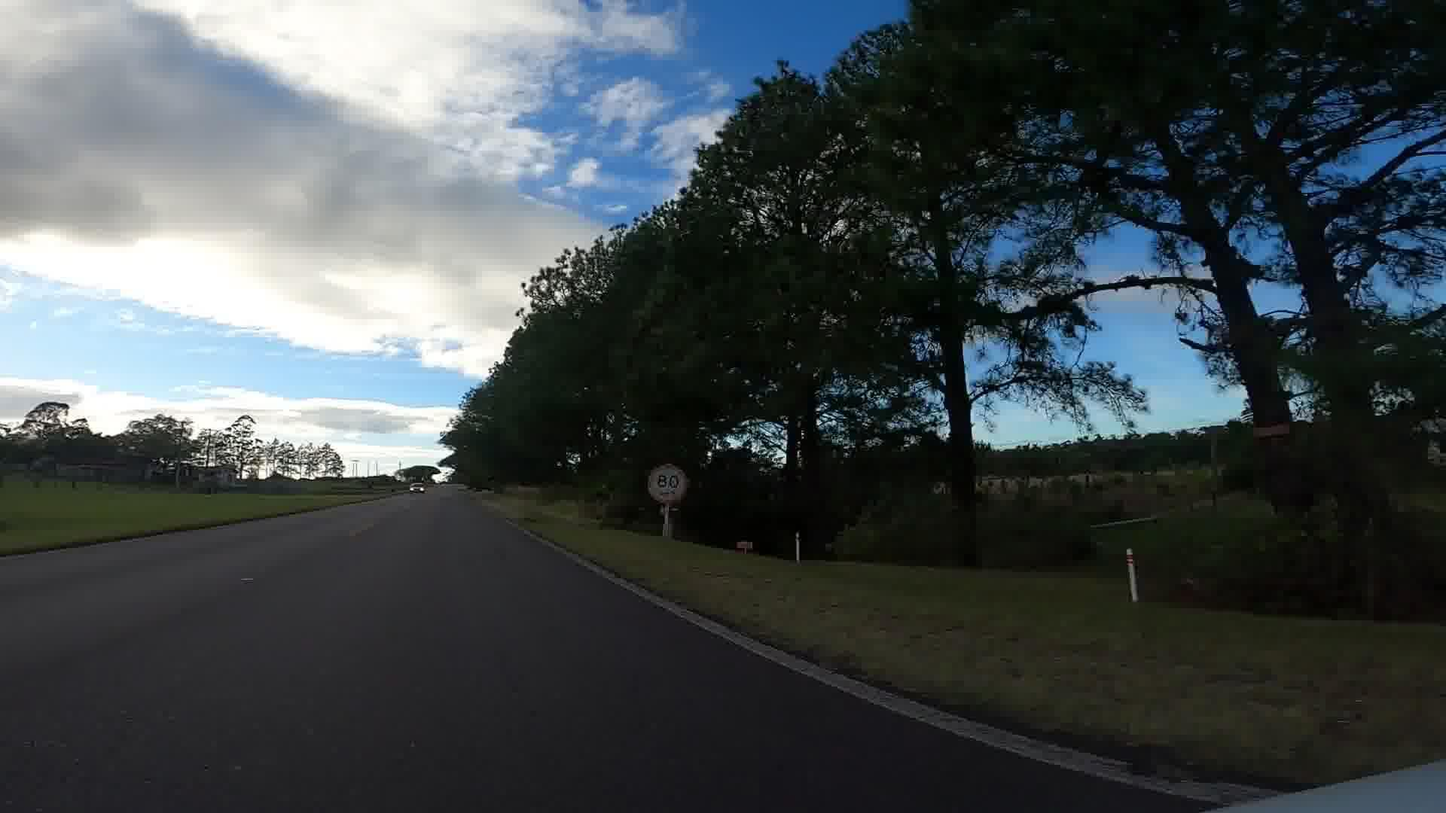R-19: (648, 462, 691, 509)
